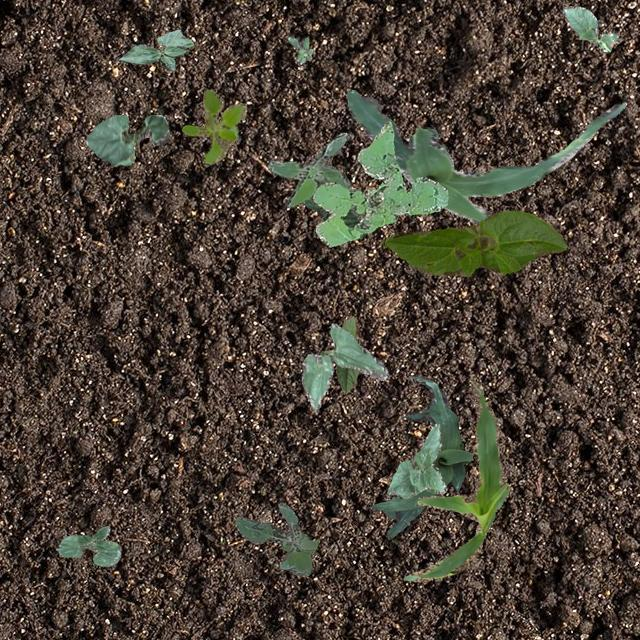crop: (346, 89, 624, 222), (402, 378, 508, 580), (371, 373, 472, 538), (384, 210, 566, 276), (300, 322, 388, 408), (386, 422, 446, 498), (84, 114, 168, 164), (118, 29, 192, 70), (560, 5, 618, 50), (58, 524, 120, 566), (302, 194, 360, 226), (336, 316, 358, 392)
weed: (312, 120, 448, 246), (266, 132, 350, 206), (235, 502, 316, 576), (180, 89, 246, 162), (286, 36, 312, 64)
